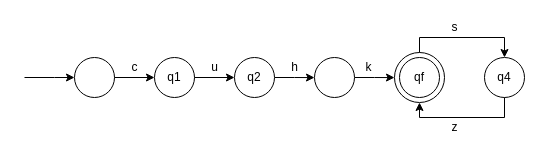
The diagram is 542 pixels wide and 154 high, and some of its shapes have lost their labels. Here are the shapes that lost their labels. From the top down, the centre of each, then its label:
(94,77): q0
(334,77): q3
